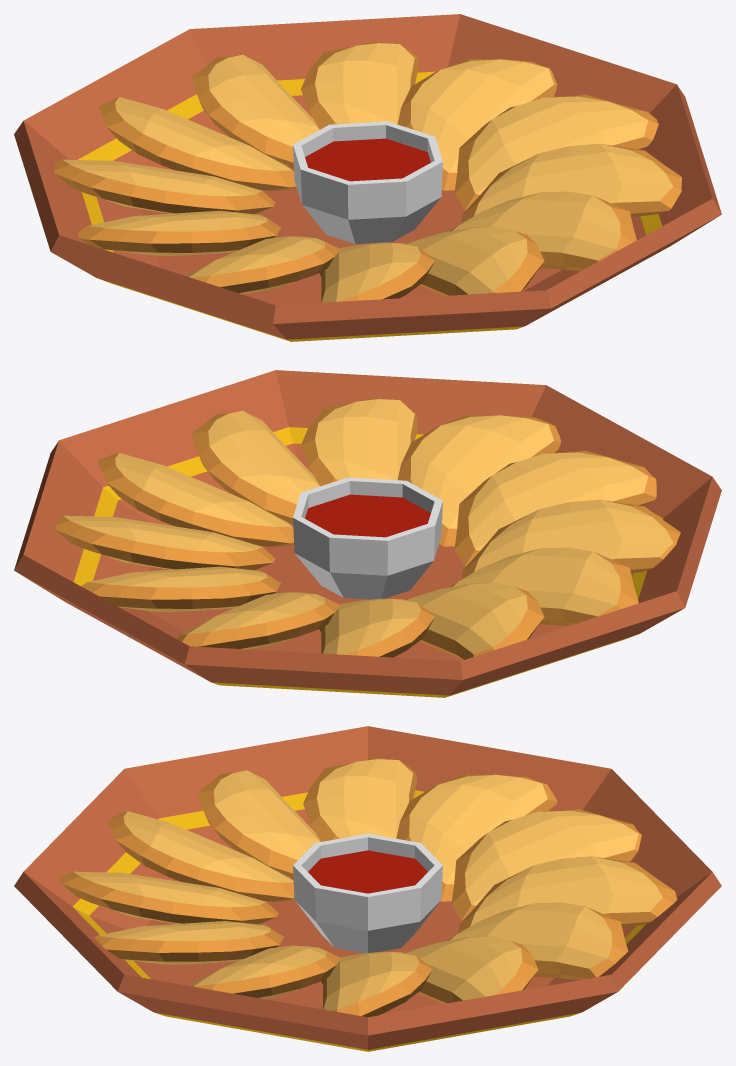
The model's file is Plato_Empanadas.fbx.
The picture shows the model from 3 angles, top to bottom: view 1: azimuth 30°, elevation 25°; view 2: azimuth 150°, elevation 25°; view 3: azimuth 270°, elevation 25°; orthographic projection. The views are drawn at different scales.
Parts seen in each view (by area): view 1: Plato_Empanadas; view 2: Plato_Empanadas; view 3: Plato_Empanadas.
Boxes of the visible parts, box(x1,y1,x2,y2) form: Plato_Empanadas: box(14, 14, 721, 341); Plato_Empanadas: box(14, 370, 721, 697); Plato_Empanadas: box(14, 726, 721, 1051).
Size of the model in its own units: 38.53 by 5.07 by 38.53.
